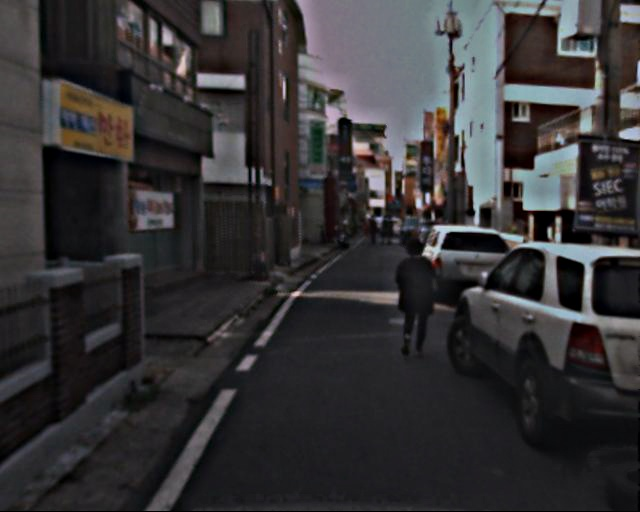person: (390, 240, 440, 363), (370, 215, 396, 245)
